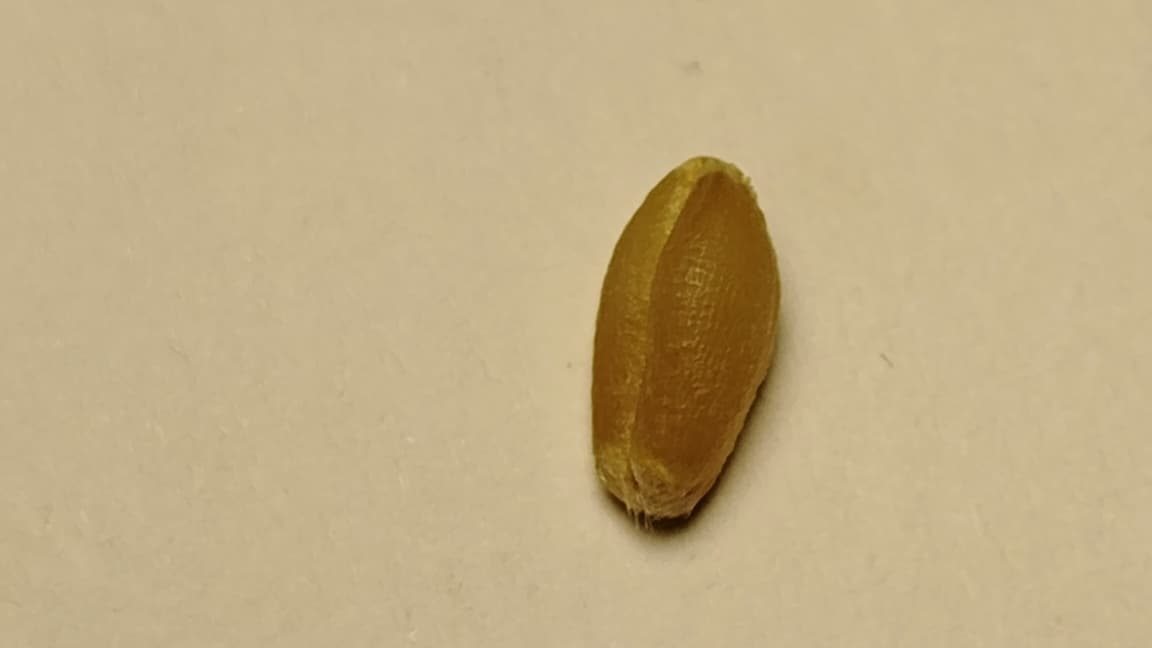healthy: (592, 157, 779, 519)
